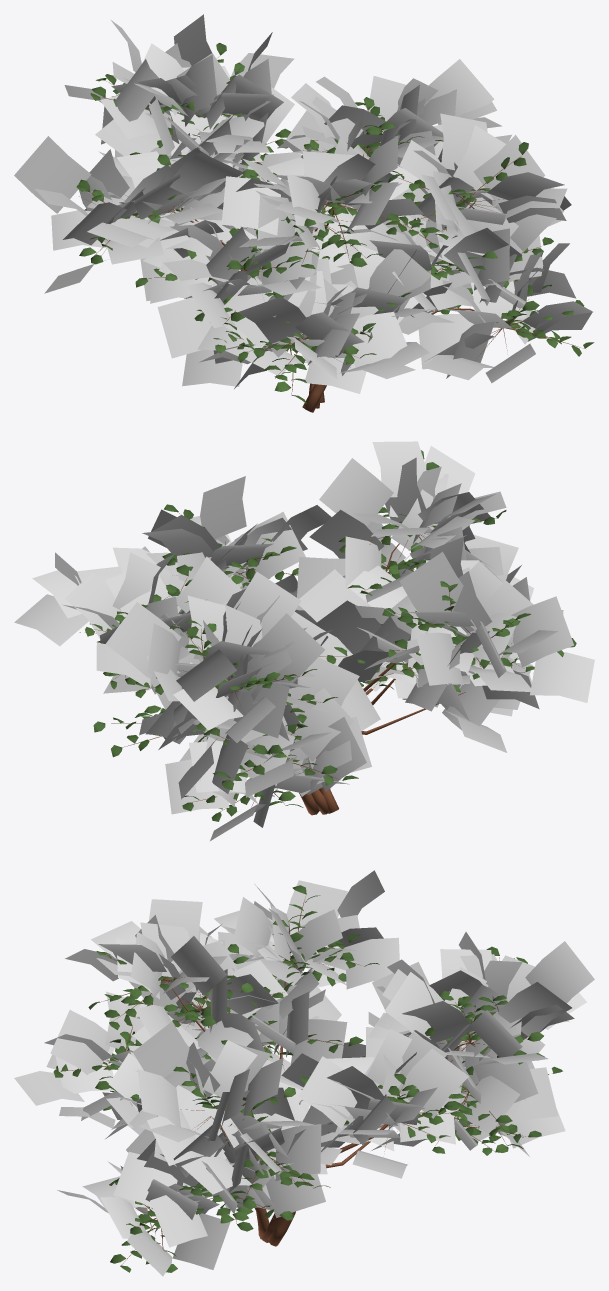
The model's file is Arbousier_Etale_LOD0.fbx.
The picture shows the model from 3 angles, top to bottom: view 1: azimuth 30°, elevation 25°; view 2: azimuth 150°, elevation 25°; view 3: azimuth 270°, elevation 25°; orthographic projection. The views are drawn at different scales.
Parts seen in each view (by area): view 1: Arbousier_Etale; view 2: Arbousier_Etale; view 3: Arbousier_Etale.
Part boxes in pixels (left/top/right/bottom): Arbousier_Etale: left=14, top=14, right=594, bottom=412; Arbousier_Etale: left=14, top=441, right=594, bottom=840; Arbousier_Etale: left=14, top=870, right=594, bottom=1276.
Size of the model in its own units: 503 by 308 by 521.
